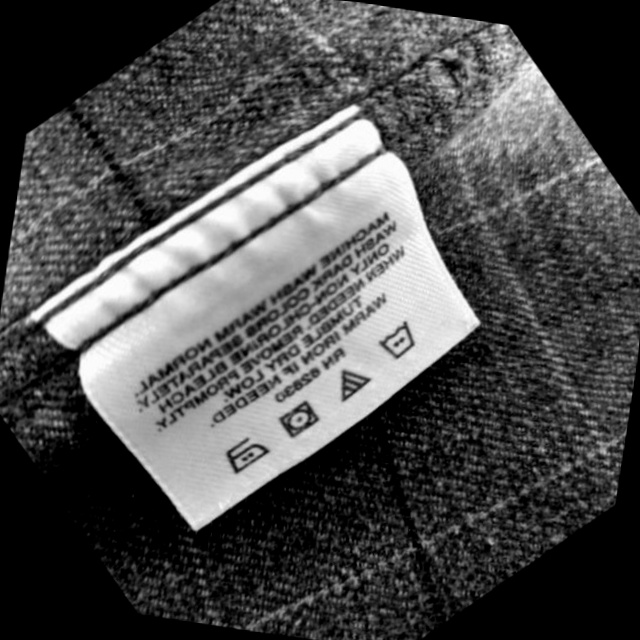40C: (375, 315, 422, 365)
iron_medium: (221, 435, 275, 482)
non_chlorine_bleach: (332, 366, 375, 407)
tumble_dry_low: (279, 397, 325, 442)
